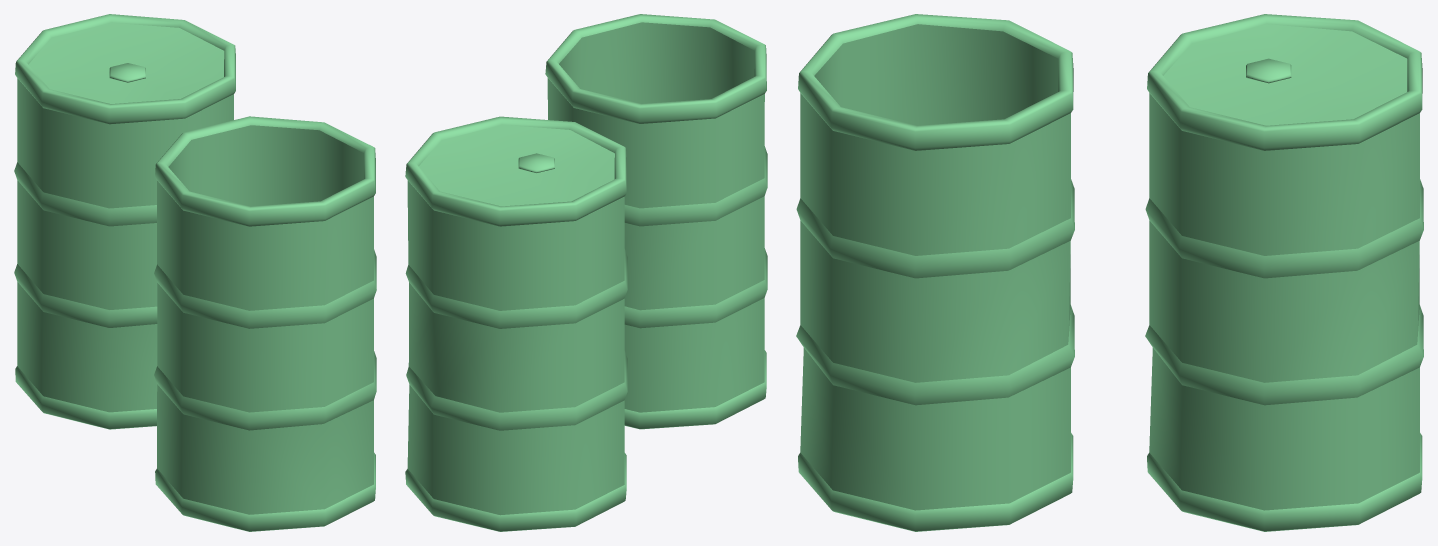
File: OilBarrel.fbx
3 views of the same model, side by side, from view 1: azimuth 30°, elevation 25°; view 2: azimuth 150°, elevation 25°; view 3: azimuth 270°, elevation 25° (orthographic). The views are drawn at different scales.
Parts seen in each view (by area): view 1: BarrelHalf, BarrelFull; view 2: BarrelFull, BarrelHalf; view 3: BarrelFull, BarrelHalf.
Part boxes in pixels (left/top/right/bottom): BarrelHalf: left=154, top=116, right=376, bottom=531; BarrelFull: left=14, top=14, right=235, bottom=429; BarrelFull: left=405, top=116, right=627, bottom=531; BarrelHalf: left=545, top=14, right=767, bottom=429; BarrelFull: left=1145, top=14, right=1423, bottom=531; BarrelHalf: left=796, top=14, right=1074, bottom=531.
Size of the model in its own units: 101 by 159 by 225.
